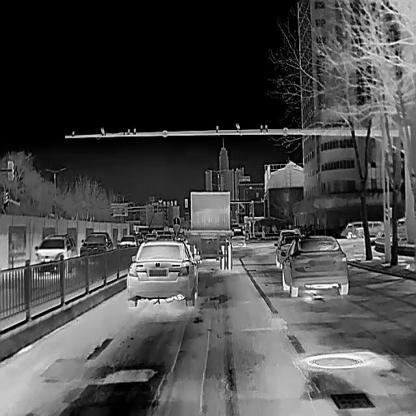car: (126, 240, 197, 306), (282, 236, 348, 296), (35, 233, 77, 266), (79, 232, 113, 256), (274, 235, 298, 269), (353, 218, 384, 237), (339, 219, 363, 239), (116, 234, 139, 249), (395, 216, 406, 237), (156, 234, 173, 240), (144, 233, 158, 240)
truck: (184, 190, 233, 270)
